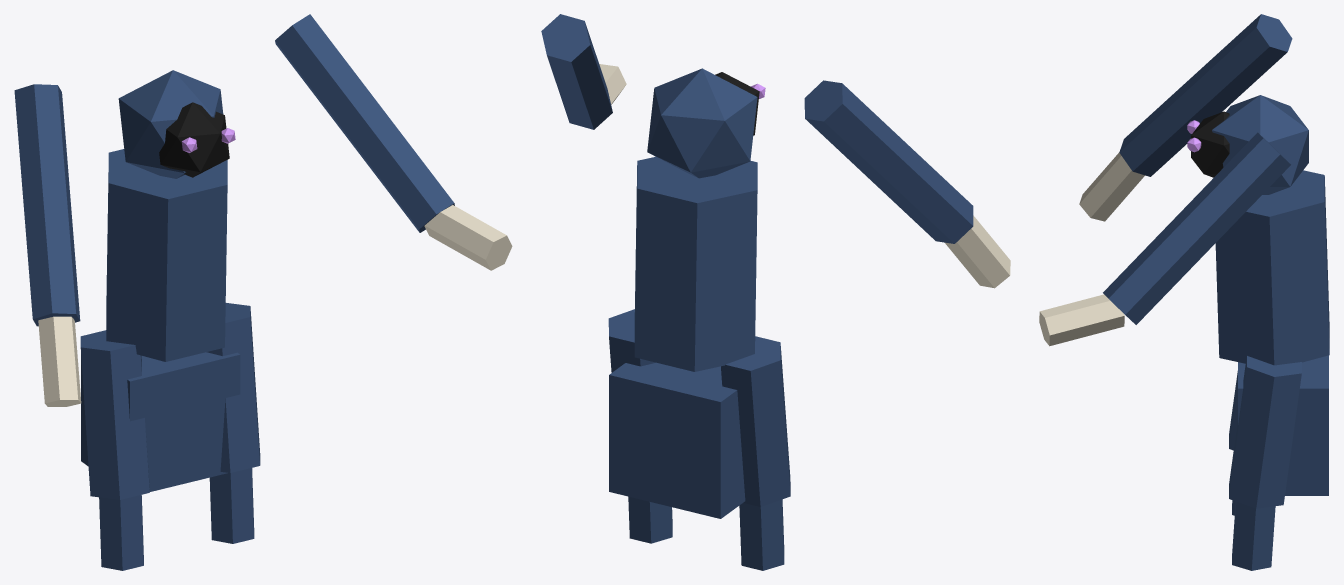
File: npcpose_wraith_attack_00.glb
The picture shows the model from 3 angles, left to right: view 1: azimuth 30°, elevation 25°; view 2: azimuth 150°, elevation 25°; view 3: azimuth 270°, elevation 25°; orthographic projection. The views are drawn at different scales.
Parts seen in each view (by area): view 1: npcpose; view 2: npcpose; view 3: npcpose.
Part boxes in pixels (box(x1,y1,x2,y2)): npcpose: box(14, 14, 512, 570); npcpose: box(541, 14, 1010, 570); npcpose: box(1039, 14, 1329, 570).
Bounding box in the file's own units: 1.04 × 1.12 × 0.6374.
